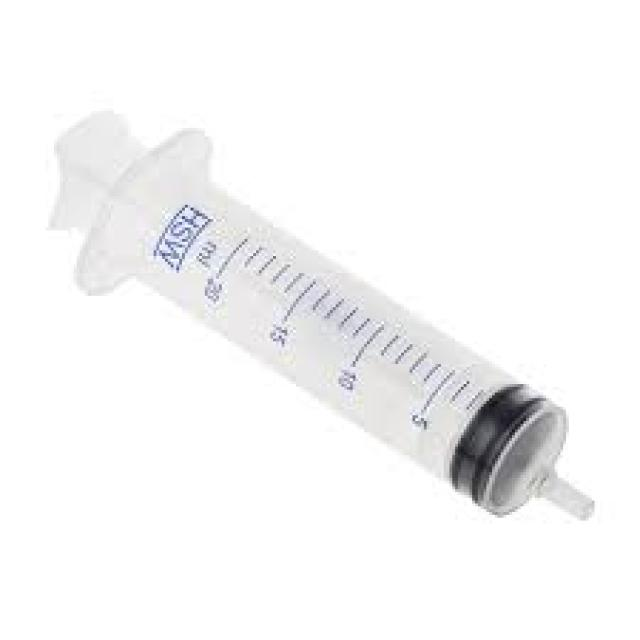syringe: (46, 106, 594, 524)
